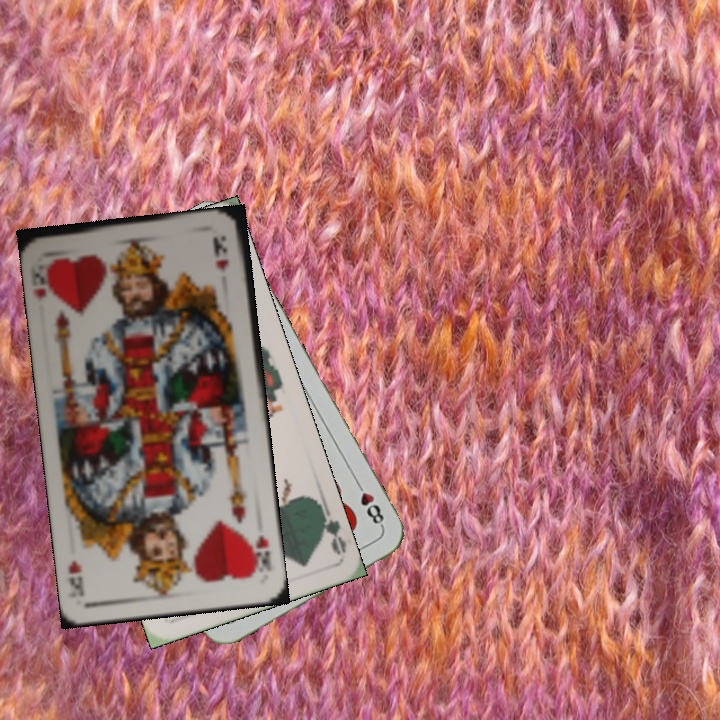GO: (312, 498, 349, 557)
H8: (351, 476, 387, 530)
HK: (30, 256, 59, 304), (247, 532, 275, 575)
